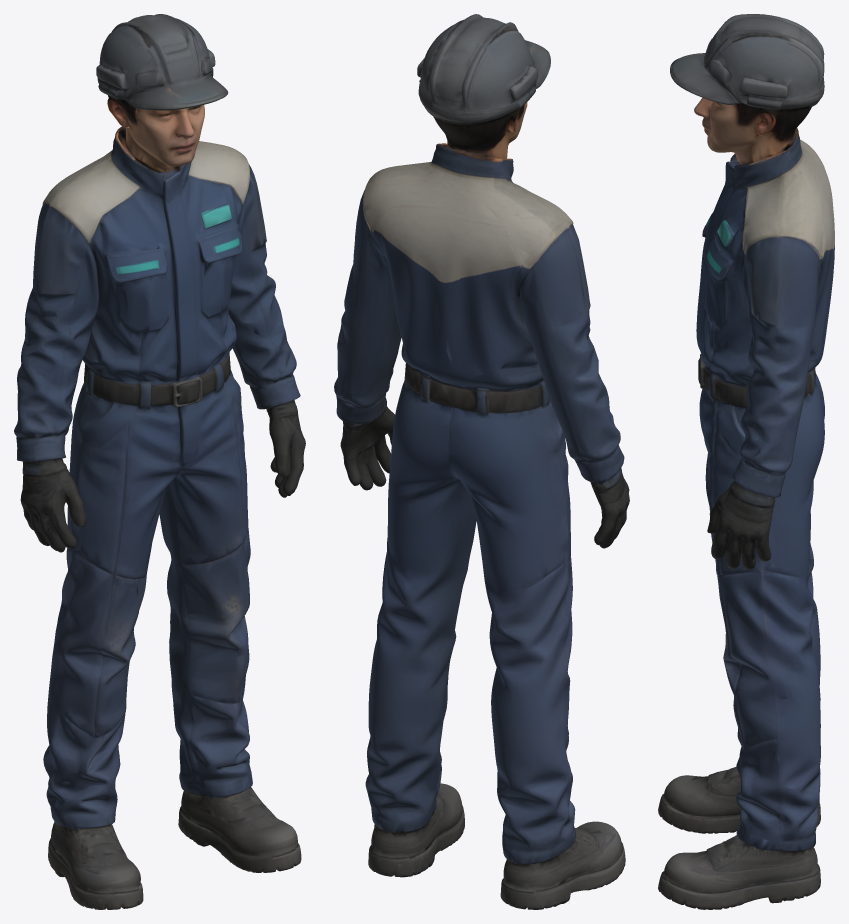
The model's file is lincen.glb.
3 views of the same model, side by side, from view 1: azimuth 30°, elevation 25°; view 2: azimuth 150°, elevation 25°; view 3: azimuth 270°, elevation 25° (orthographic).
Visible parts, largest first — view 1: LinCenMesh; view 2: LinCenMesh; view 3: LinCenMesh.
Part boxes in pixels (<box>): LinCenMesh: <box>14,14,305,909</box>; LinCenMesh: <box>334,14,629,909</box>; LinCenMesh: <box>658,14,834,909</box>.
Size of the model in its own units: 0.6128 by 1.78 by 0.3408.
1 material, 1 textured.
